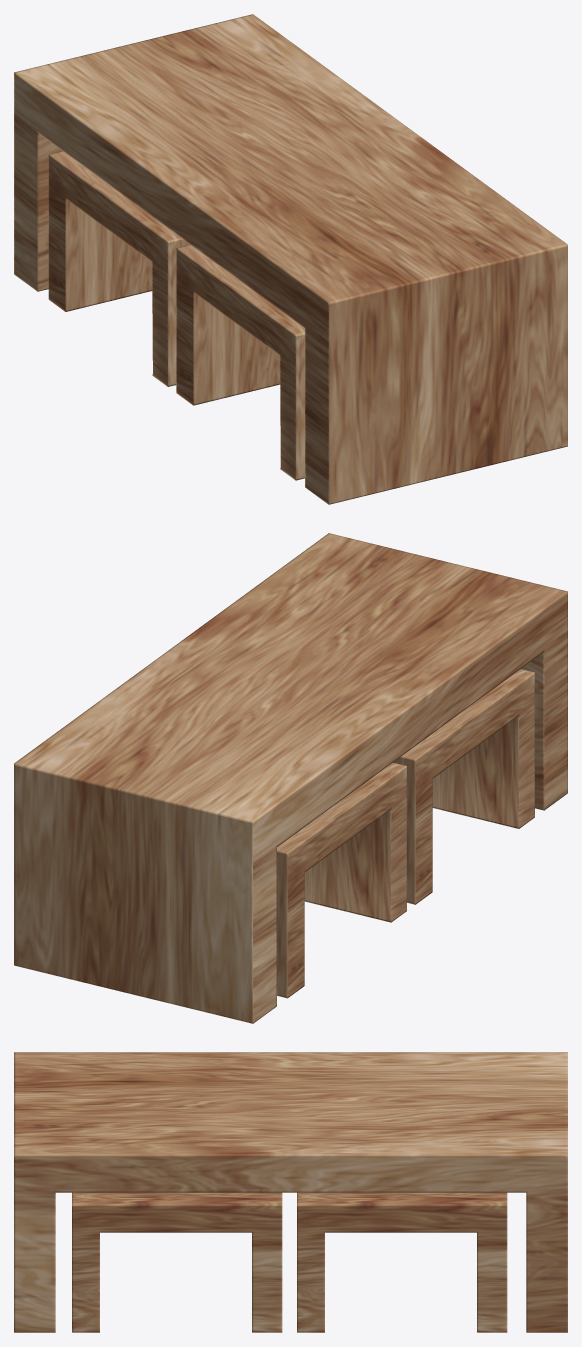
Rendered from table.obj.
3 renders of one model, top to bottom at view 1: azimuth 30°, elevation 25°; view 2: azimuth 150°, elevation 25°; view 3: azimuth 270°, elevation 25°, orthographic. The views are drawn at different scales.
Parts seen in each view (by area): view 1: table_04, table_05, table_06; view 2: table_04, table_05, table_06; view 3: table_04, table_06, table_05.
Boxes of the visible parts, box(x1,y1,x2,y2) form: table_04: box(14, 14, 567, 504); table_05: box(48, 151, 189, 386); table_06: box(176, 244, 304, 480); table_04: box(14, 533, 567, 1023); table_05: box(277, 762, 406, 998); table_06: box(393, 669, 534, 904); table_04: box(14, 1052, 567, 1332); table_06: box(72, 1192, 282, 1332); table_05: box(297, 1192, 507, 1332).
Bounding box in the file's own units: 1.88 × 1.52 × 4.28.
